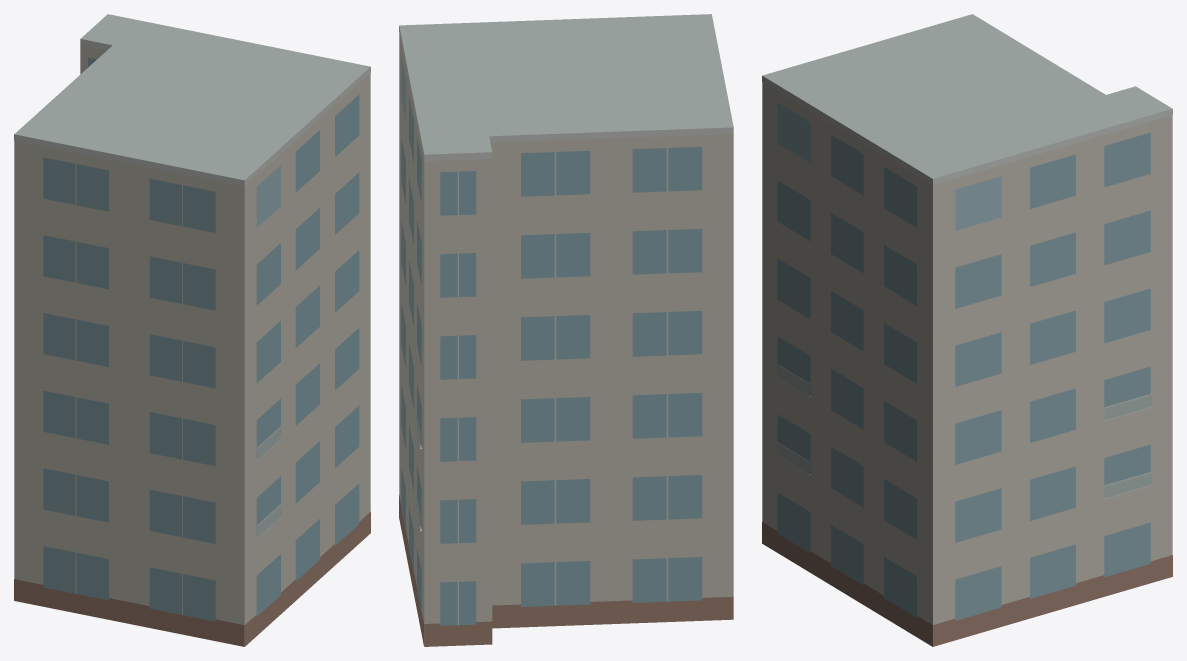
Rendered from survey-upis-32753632.glb.
3 views of the same model, side by side, from view 1: azimuth 30°, elevation 25°; view 2: azimuth 150°, elevation 25°; view 3: azimuth 270°, elevation 25° (orthographic). The views are drawn at different scales.
Parts seen in each view (by area): view 1: survey-upis-32753632.tmp; view 2: survey-upis-32753632.tmp; view 3: survey-upis-32753632.tmp.
Boxes of the visible parts, <box> form: survey-upis-32753632.tmp: <box>14,14,370,646</box>; survey-upis-32753632.tmp: <box>399,14,733,646</box>; survey-upis-32753632.tmp: <box>762,14,1172,646</box>.
Bounding box in the file's own units: 13.84 × 18.3 × 14.56.
